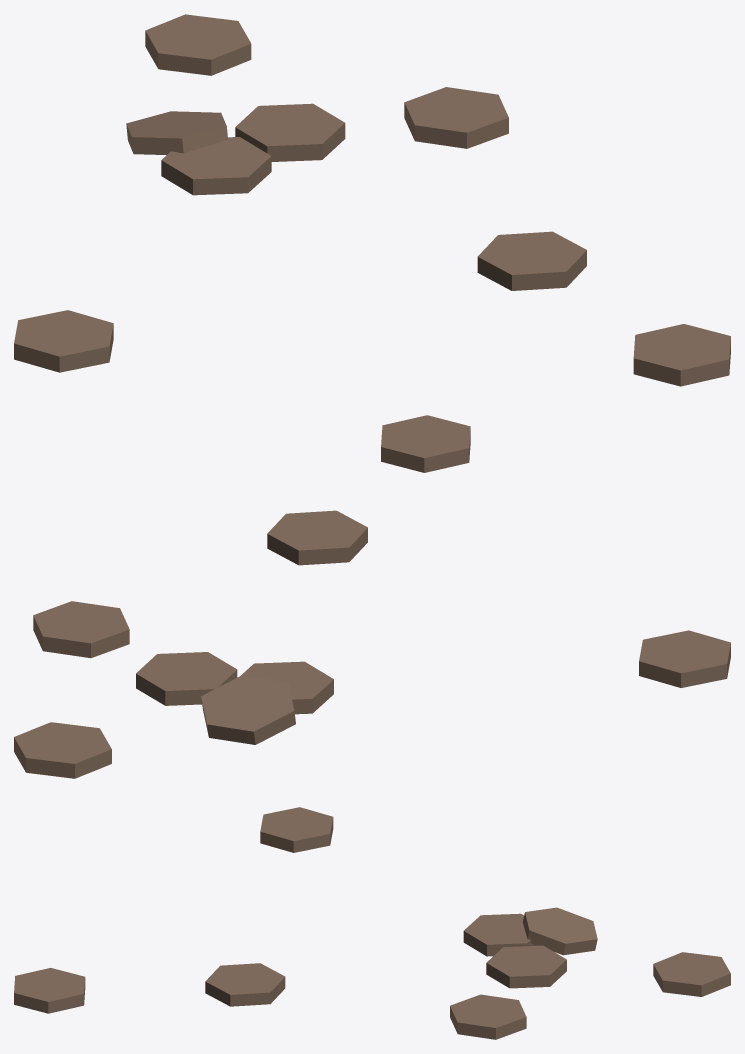
Rendered from SM_Item_Coins_03.glb.
3 renders of one model, top to bottom at view 1: azimuth 30°, elevation 25°; view 2: azimuth 150°, elevation 25°; view 3: azimuth 270°, elevation 25°, orthographic. The views are drawn at different scales.
Visible parts, largest first — view 1: SM_Item_Coins_03_00; view 2: SM_Item_Coins_03_00; view 3: SM_Item_Coins_03_00.
Part boxes in pixels (x1=…): SM_Item_Coins_03_00: x1=14, y1=14, x2=730, y2=386; SM_Item_Coins_03_00: x1=14, y1=415, x2=730, y2=778; SM_Item_Coins_03_00: x1=14, y1=807, x2=730, y2=1039.
Size of the model in its own units: 0.548 by 0.0289 by 0.7515.
1 material, 1 textured.
